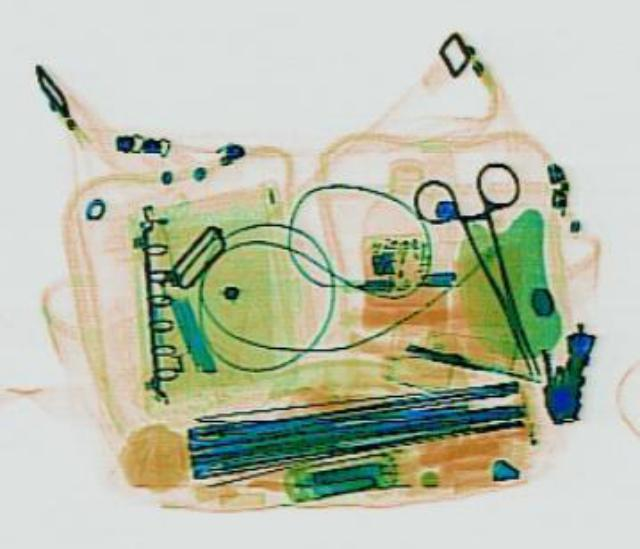Scissors: (401, 155, 587, 384)
